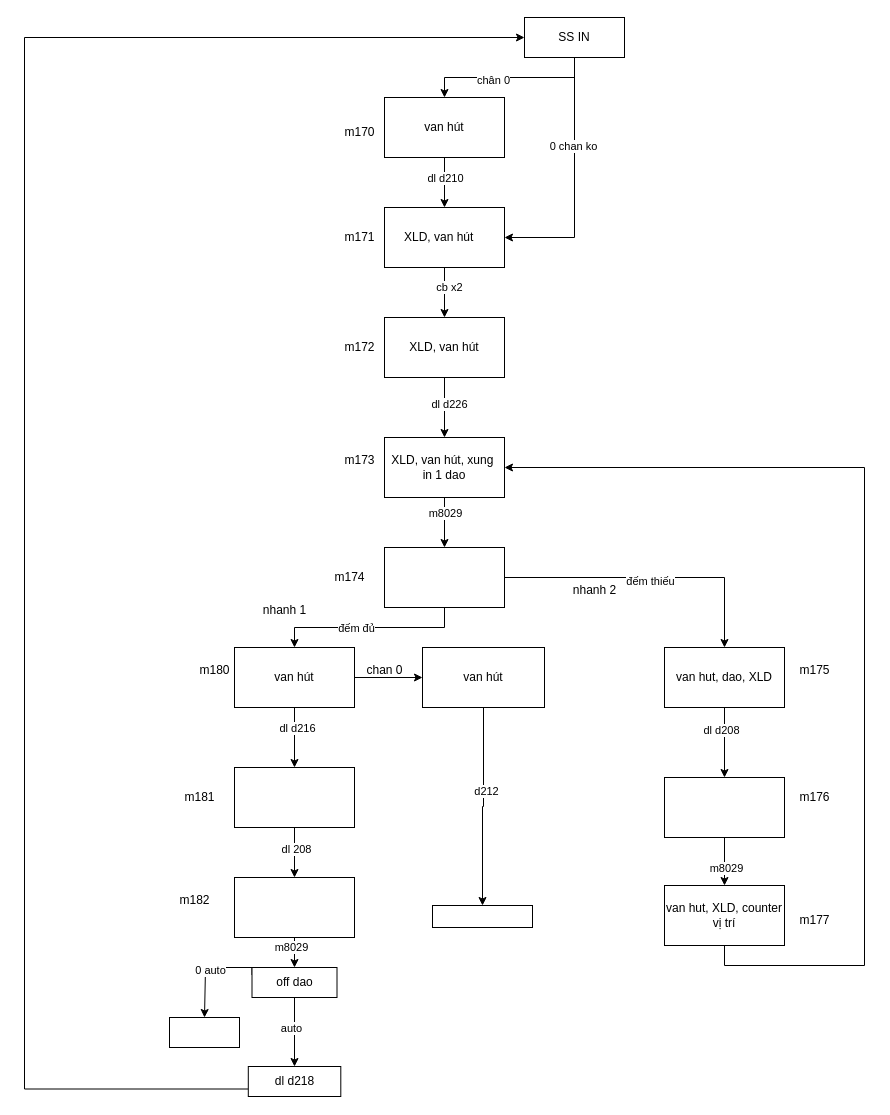
This 890x1115 diagram has some shape labels left out. The shapes that lost their labels are listed below. From the top down, each one's box as (x1, y1, x2, y2) in pixels, then its label:
(384, 546, 504, 608): counter, XLD, van hut
(234, 766, 354, 828): dao
(664, 776, 784, 838): van hut, dao, XLD, xung chờ dời
(234, 876, 354, 938): dao, counter vị trí, xung chờ dời
(432, 904, 532, 928): off van
(168, 1016, 240, 1048): end
